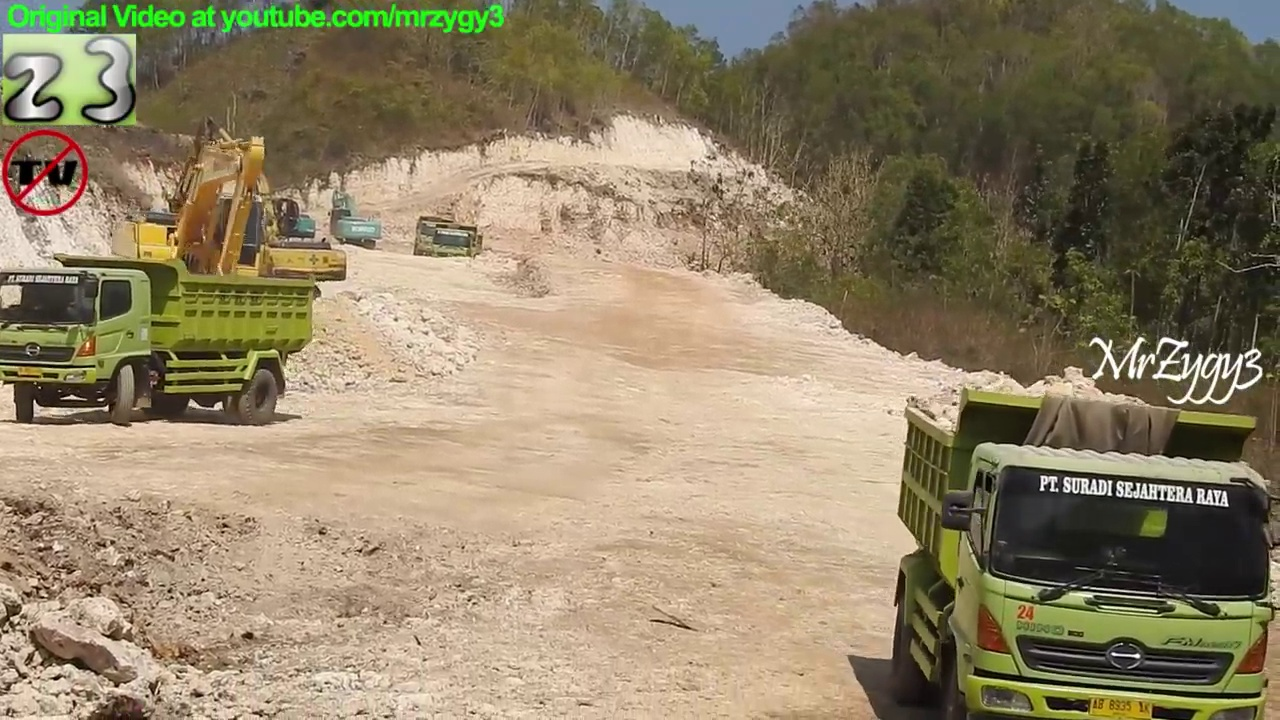excavator: (79, 133, 289, 365), (155, 116, 350, 310), (189, 137, 317, 261), (327, 183, 384, 255)
truck: (888, 383, 1280, 720), (1, 265, 324, 428), (431, 220, 482, 268), (410, 212, 455, 261)
